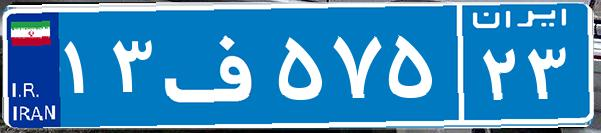1: (57, 26, 110, 107)
2: (475, 38, 525, 113)
3: (110, 28, 158, 105), (525, 38, 570, 115)
5: (385, 28, 445, 110), (273, 28, 330, 110)
7: (330, 28, 385, 110)
ف: (158, 15, 273, 115)
